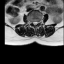CCS_stenosis: (34, 19, 36, 27)
LFS_stenosis: (37, 19, 40, 24)
LLS_normal: (36, 19, 37, 26)
RFS_stenosis: (30, 19, 32, 25)
RLS_normal: (32, 19, 34, 26)
